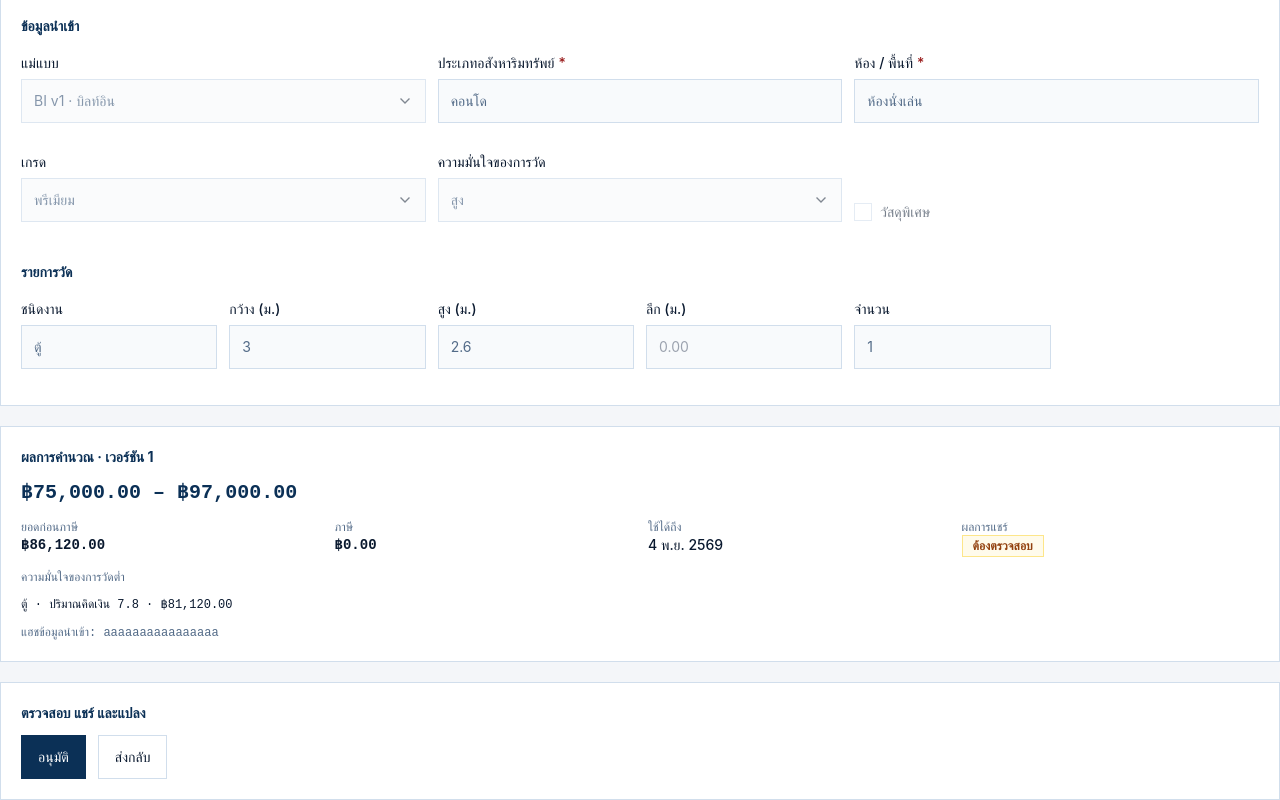
QuickEstimateWorkspace › requires a reason code before approving a review
(page scrolled)
Click the button "อนุมัติ" at (53, 757), box top-left (21, 735), bottom-right (86, 779)
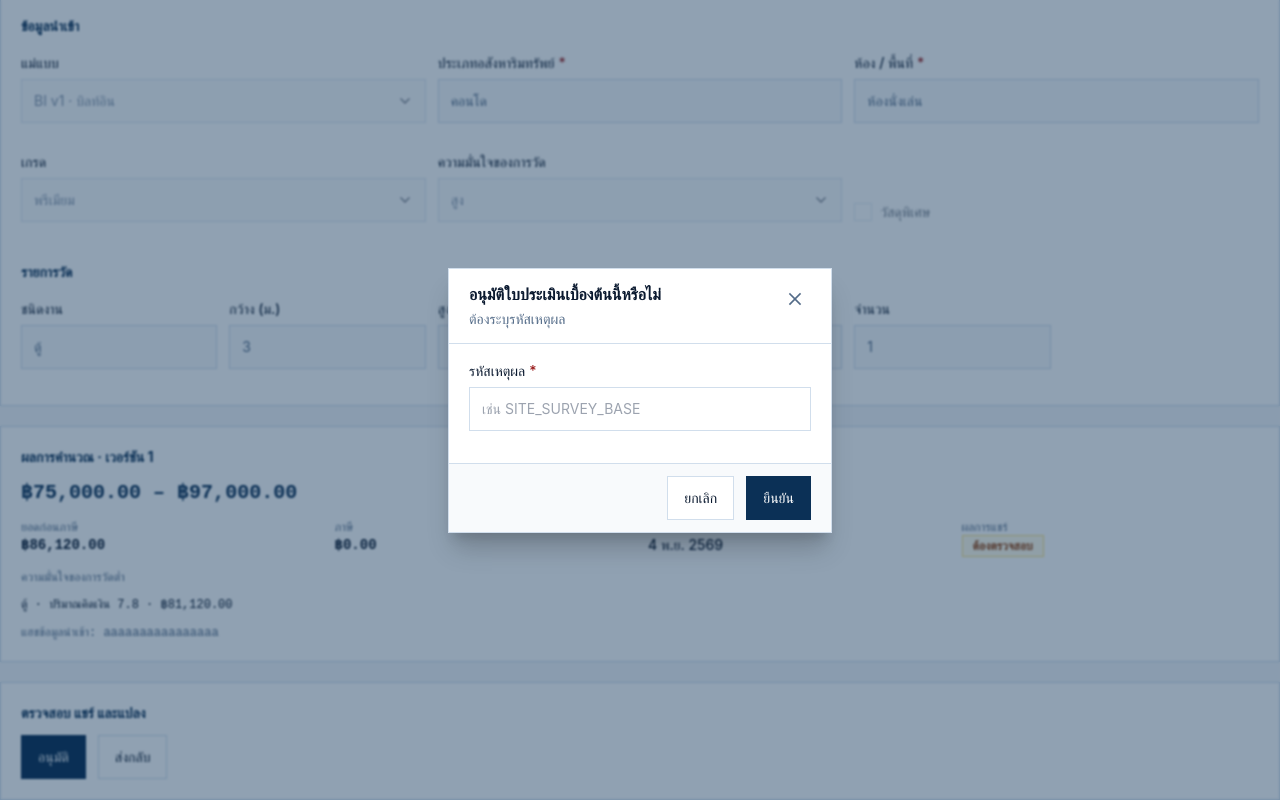
Click the button "ยืนยัน" at (779, 498), box top-left (746, 476), bottom-right (811, 520)
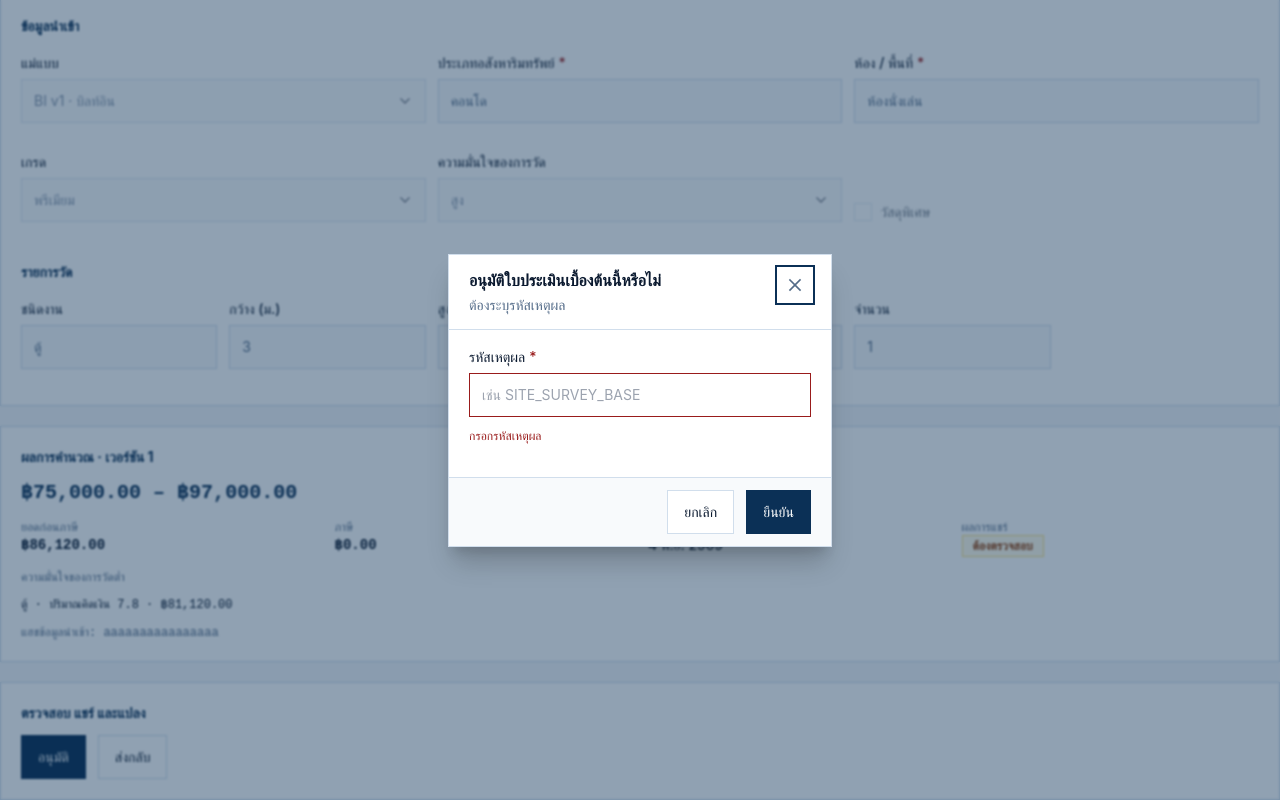
Expected: the text "กรอกรหัสเหตุผล" is shown, top-left (469, 428), bottom-right (542, 442)
